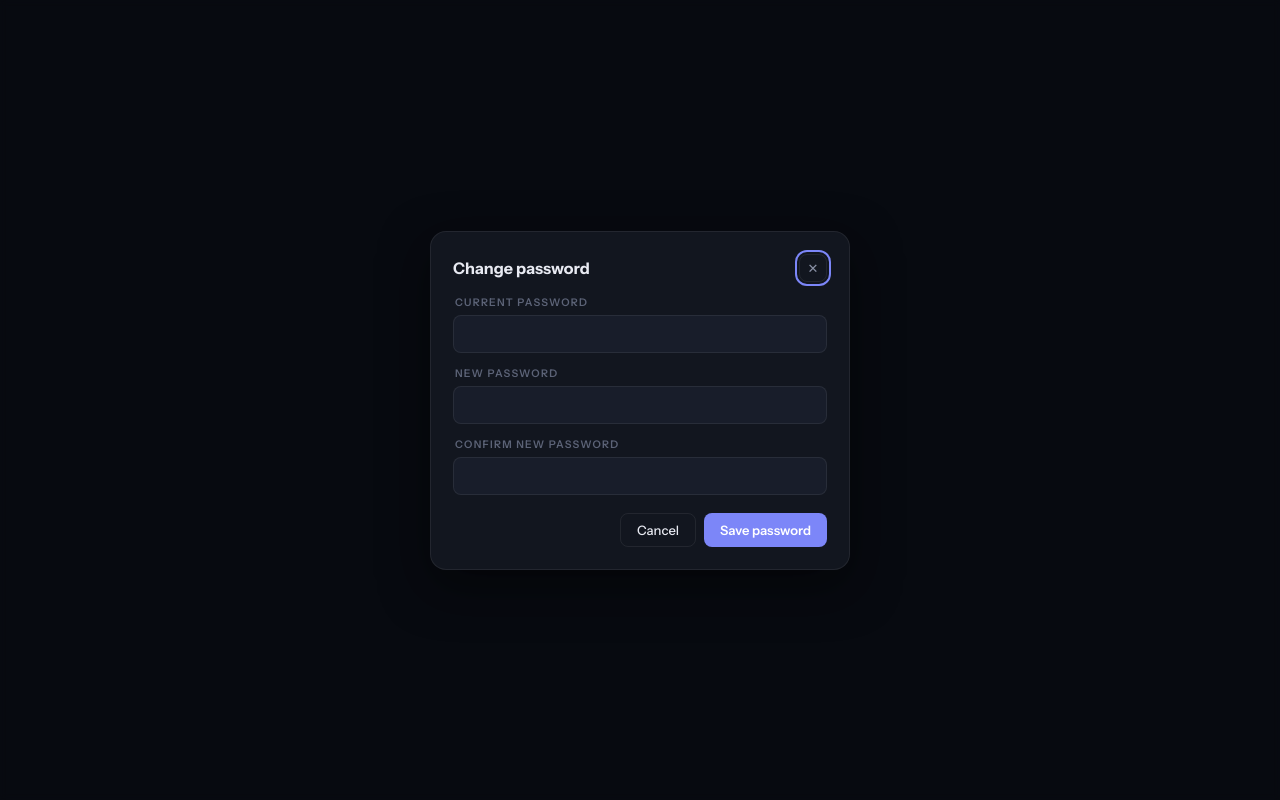
Test: the server’s answer › renders a rejection inline and keeps the modal open
In the password field labelled "CURRENT PASSWORD": x=640, y=334 [453, 314, 827, 352], type "wrong"
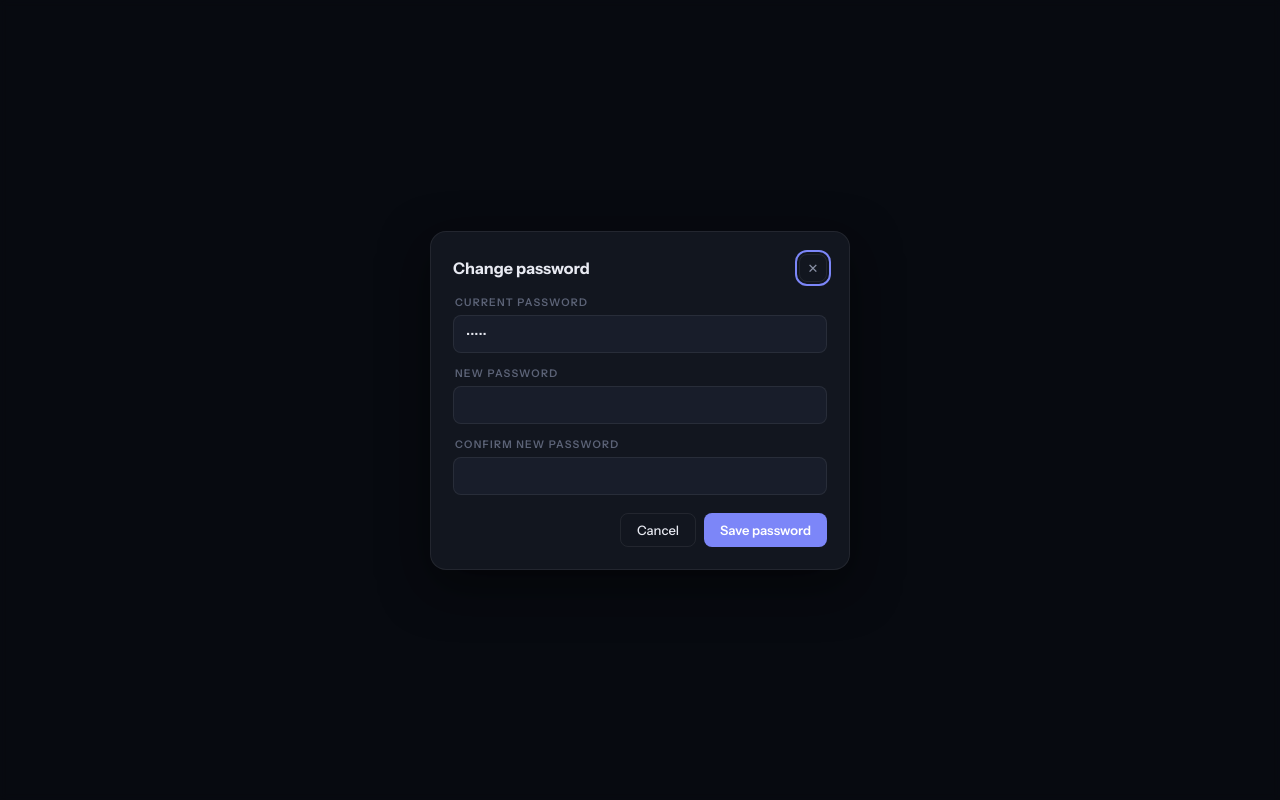
In the password field labelled "NEW PASSWORD": x=640, y=404 [453, 386, 827, 424], type "new-one"
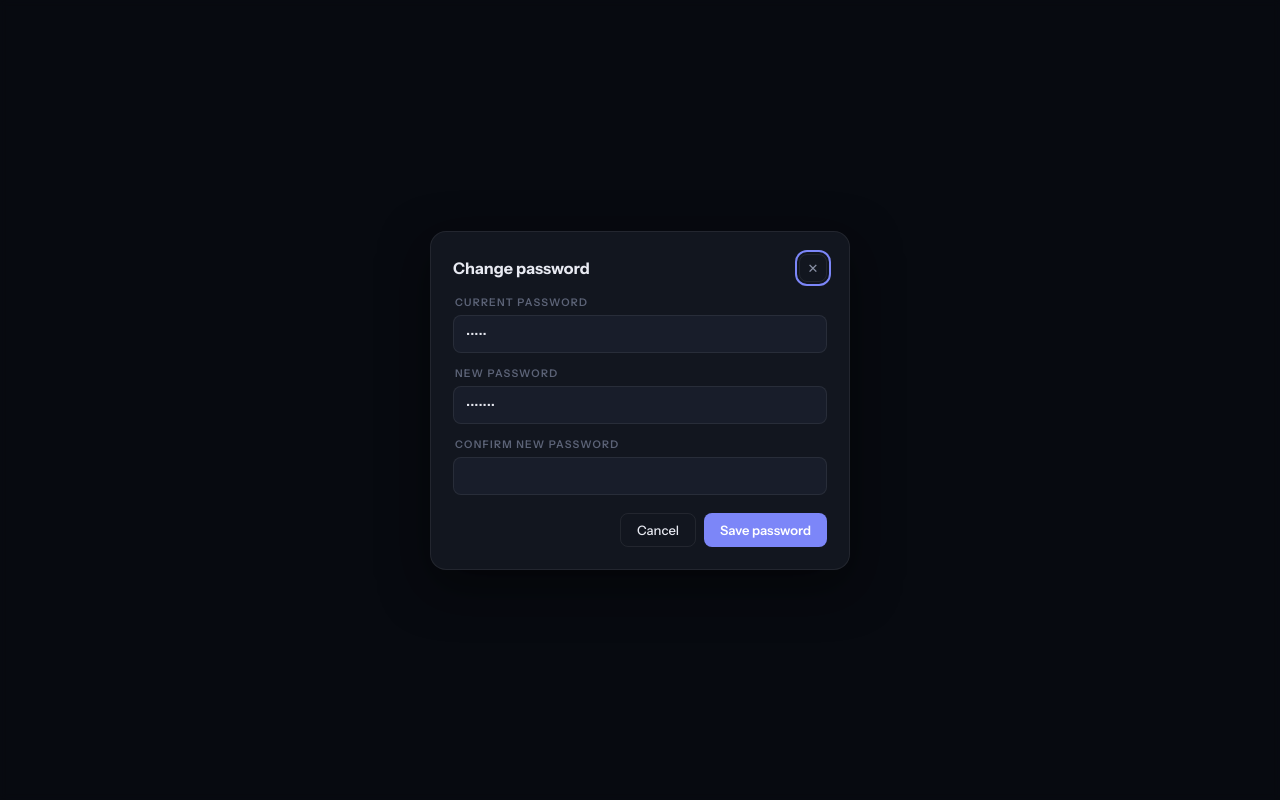
In the password field labelled "CONFIRM NEW PASSWORD": x=640, y=476 [453, 456, 827, 494], type "new-one"
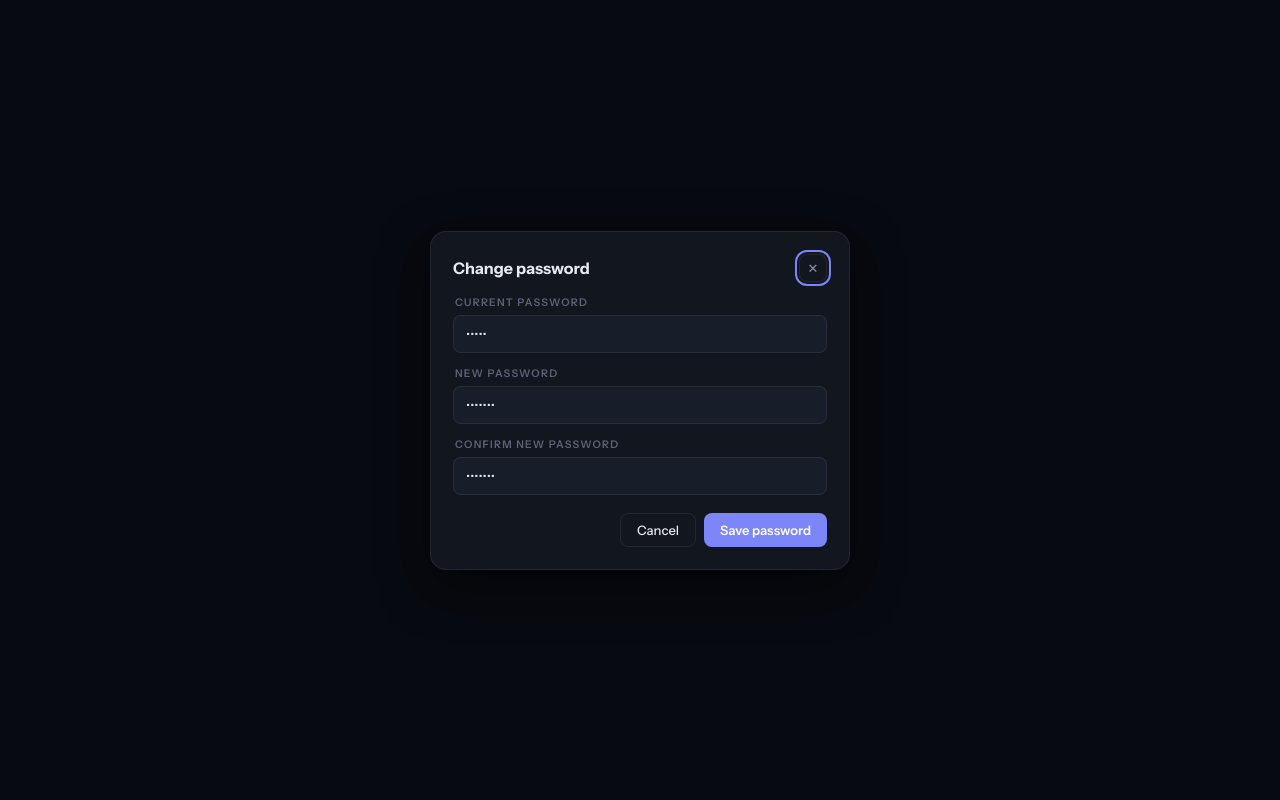
Click the button "Save password": x=766, y=530 [704, 512, 827, 546]
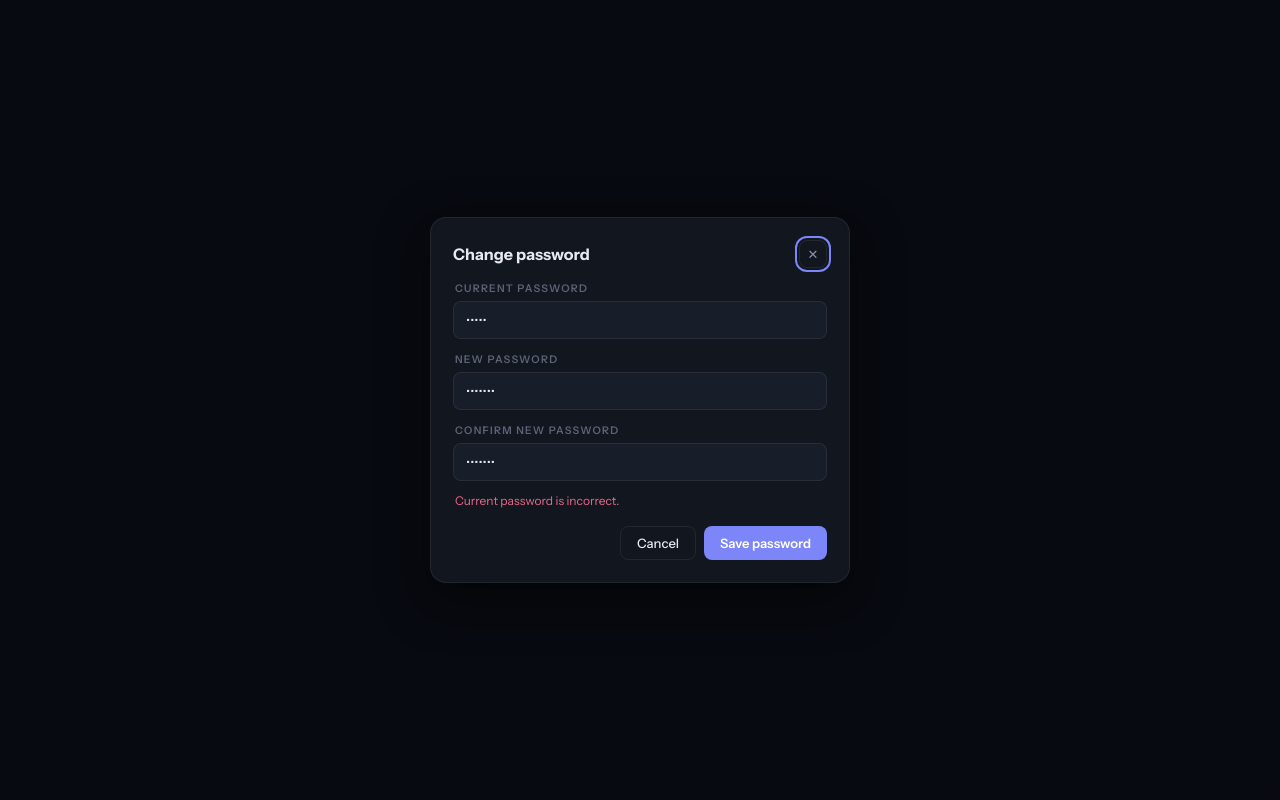
Expected: the password field labelled "CURRENT PASSWORD" is enabled, [453, 301, 827, 339]
Expected: the message reads "Current password is incorrect.", [455, 493, 619, 508]
